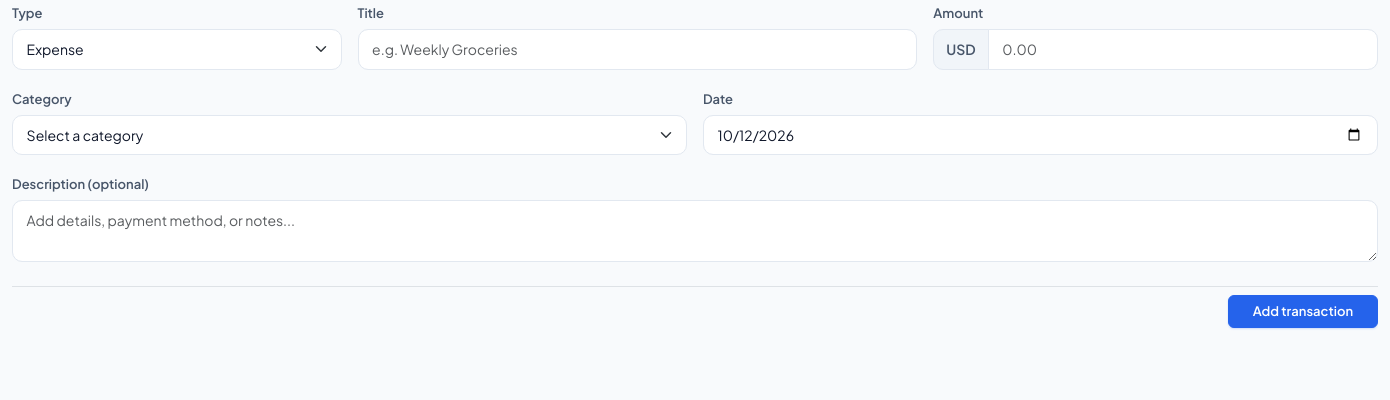
TransactionForm › shows validation errors and does not submit an incomplete form
Click the button "Add transaction" at (1303, 311), box [1228,295,1378,328]
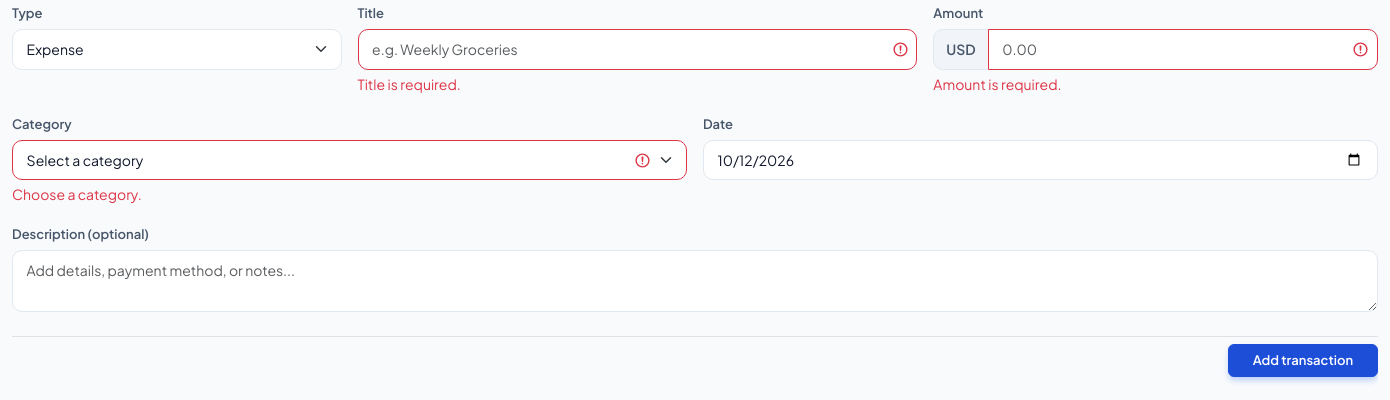
Check: the text "Title is required." is shown, box [358,75,461,93]
Check: the text "Amount is required." is shown, box [933,75,1062,93]
Check: the text "Choose a category." is shown, box [12,185,142,203]
